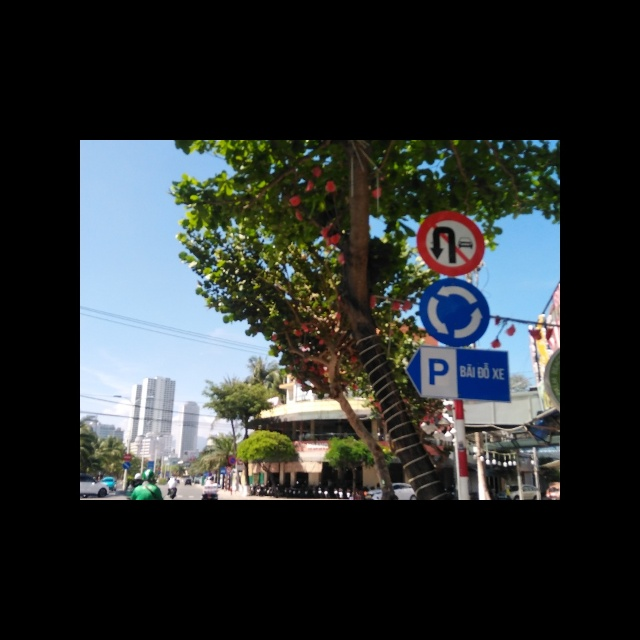Cấm xe ô tô quay đầu: (418, 211, 487, 275)
Nơi giao nhau chạy theo vòng xuyến: (421, 278, 492, 345)
Nơi đỗ xe: (406, 346, 509, 404)
